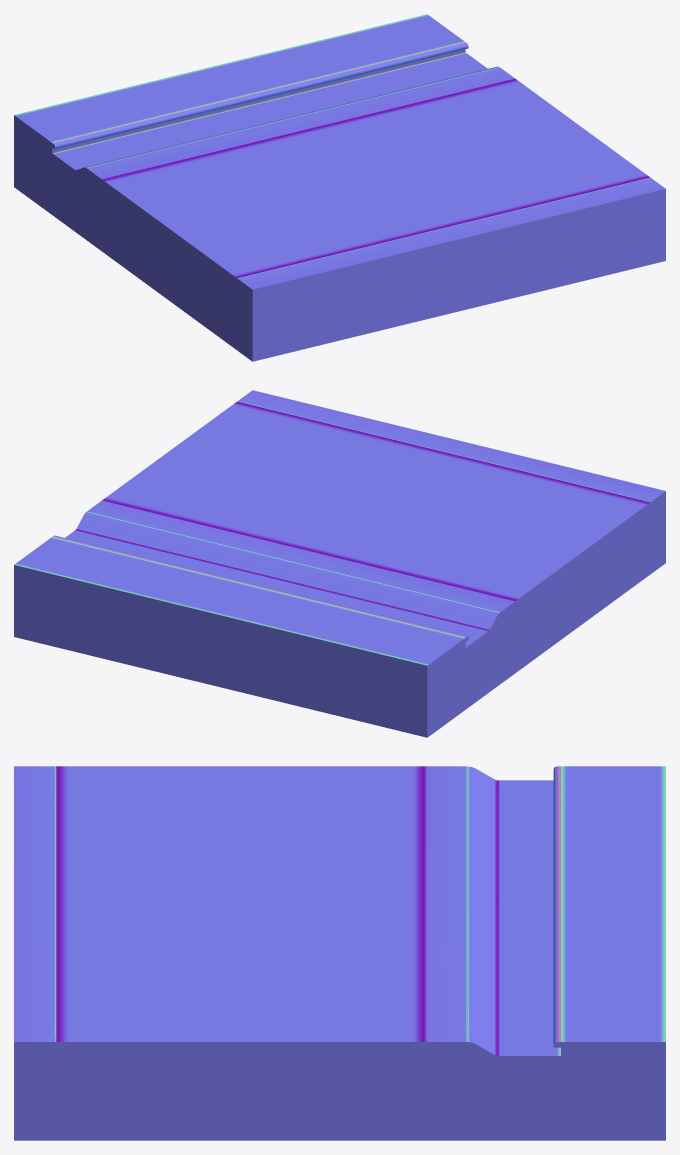
The model's file is Floor_Normal_01.FBX.
The picture shows the model from 3 angles, top to bottom: view 1: azimuth 30°, elevation 25°; view 2: azimuth 150°, elevation 25°; view 3: azimuth 270°, elevation 25°; orthographic projection. The views are drawn at different scales.
Parts seen in each view (by area): view 1: Floor_Normal_01; view 2: Floor_Normal_01; view 3: Floor_Normal_01.
Part boxes in pixels (x1,y1,x2,y2): Floor_Normal_01: [14, 14, 665, 361]; Floor_Normal_01: [14, 390, 665, 737]; Floor_Normal_01: [14, 766, 665, 1140].
Size of the model in its own units: 6 by 1 by 6.
